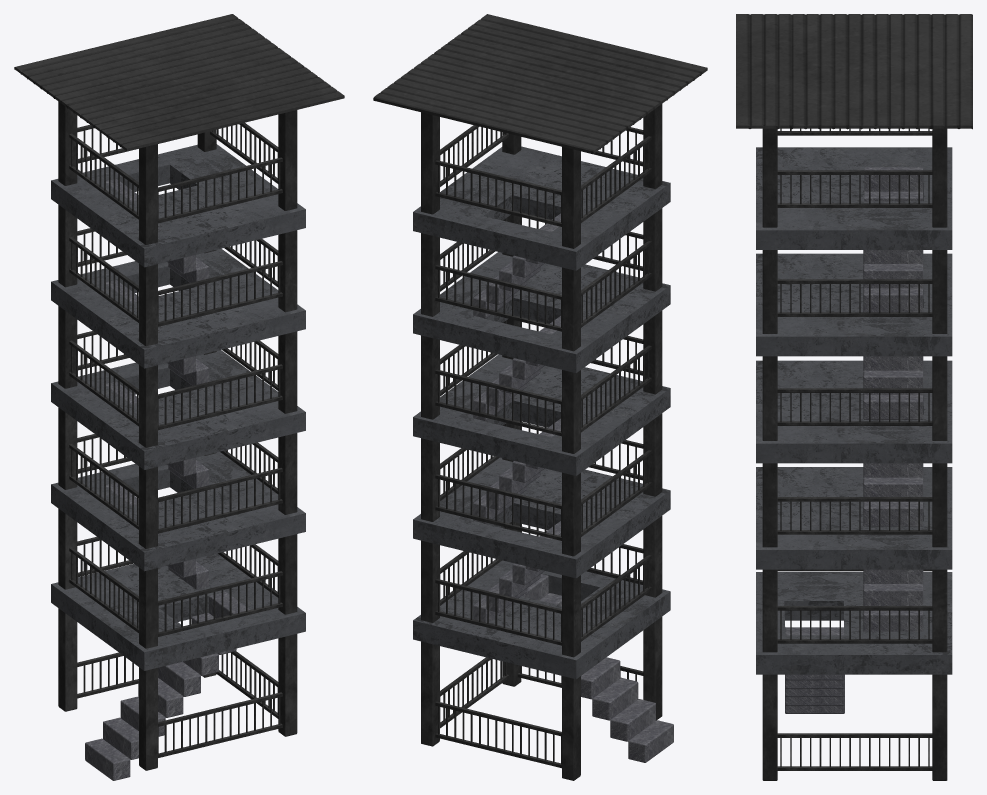
Rendered from Thang.fbx.
The picture shows the model from 3 angles, left to right: view 1: azimuth 30°, elevation 25°; view 2: azimuth 150°, elevation 25°; view 3: azimuth 270°, elevation 25°; orthographic projection. The views are drawn at different scales.
Parts seen in each view (by area): view 1: Plane.012; view 2: Plane.012; view 3: Plane.012.
Part boxes in pixels (x1=…): Plane.012: x1=14, y1=14, x2=344, y2=780; Plane.012: x1=373, y1=14, x2=707, y2=780; Plane.012: x1=736, y1=14, x2=972, y2=780.
Size of the model in its own units: 3336 by 9552 by 2985.
